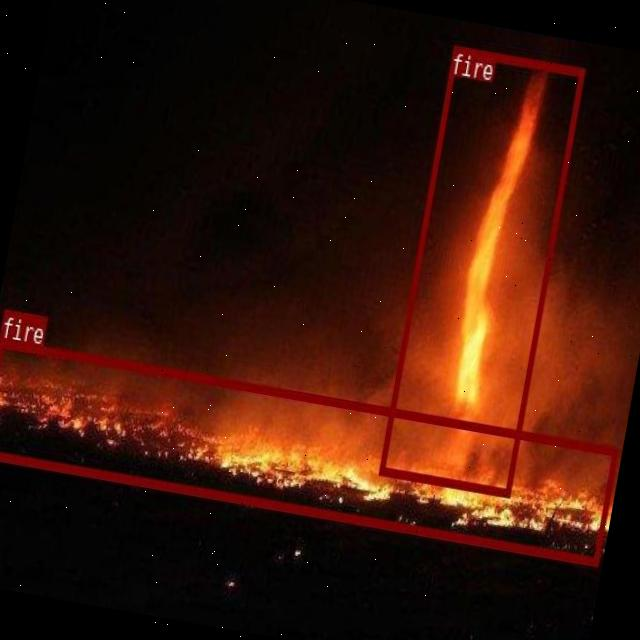fire: (0, 337, 617, 563), (378, 44, 584, 495)
